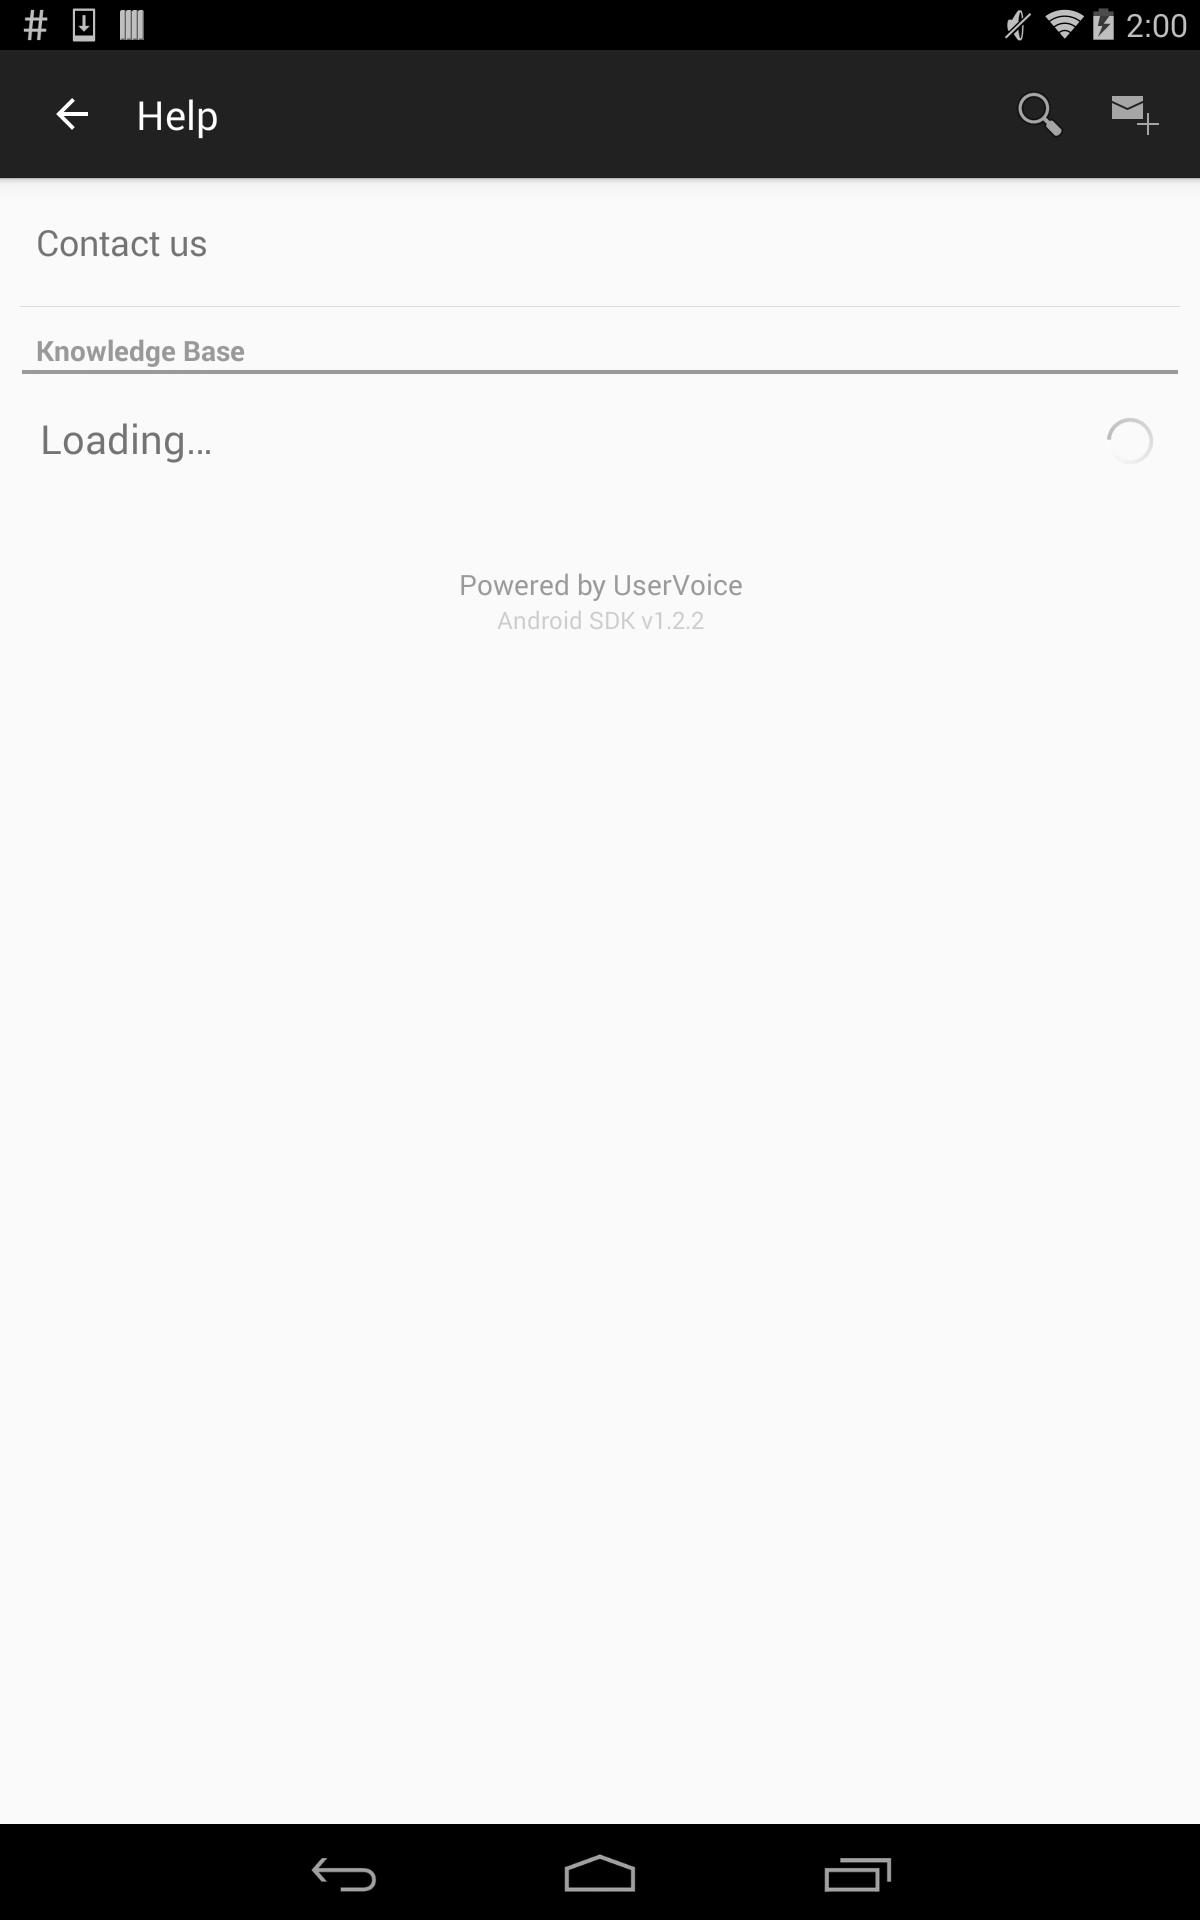android.support.v7.widget.LinearLayoutCompat: (993, 50, 1183, 178)
android.view.View: (0, 50, 1200, 1825), (0, 50, 1200, 178), (19, 305, 1181, 307), (19, 505, 1181, 506)
android.widget.FrameLayout: (0, 0, 1200, 1825), (0, 50, 1200, 1825), (0, 178, 1200, 1825), (0, 50, 1200, 178)
android.widget.ImageButton: (17, 50, 129, 178)
android.widget.LinearLayout: (0, 0, 1200, 1825), (0, 634, 1200, 804), (0, 178, 1200, 307), (0, 377, 1200, 506), (0, 506, 1200, 634), (19, 506, 1181, 634), (19, 178, 1181, 305), (19, 377, 1181, 505), (0, 307, 1200, 377)
android.widget.TextView: (19, 307, 1181, 377), (0, 694, 1200, 733), (0, 733, 1200, 764), (993, 66, 1088, 162), (1088, 66, 1183, 162), (36, 545, 212, 594), (36, 217, 207, 265), (36, 397, 176, 446), (36, 446, 169, 484), (135, 87, 218, 141)
android.widget.ViewFlipper: (0, 178, 1200, 1825)
